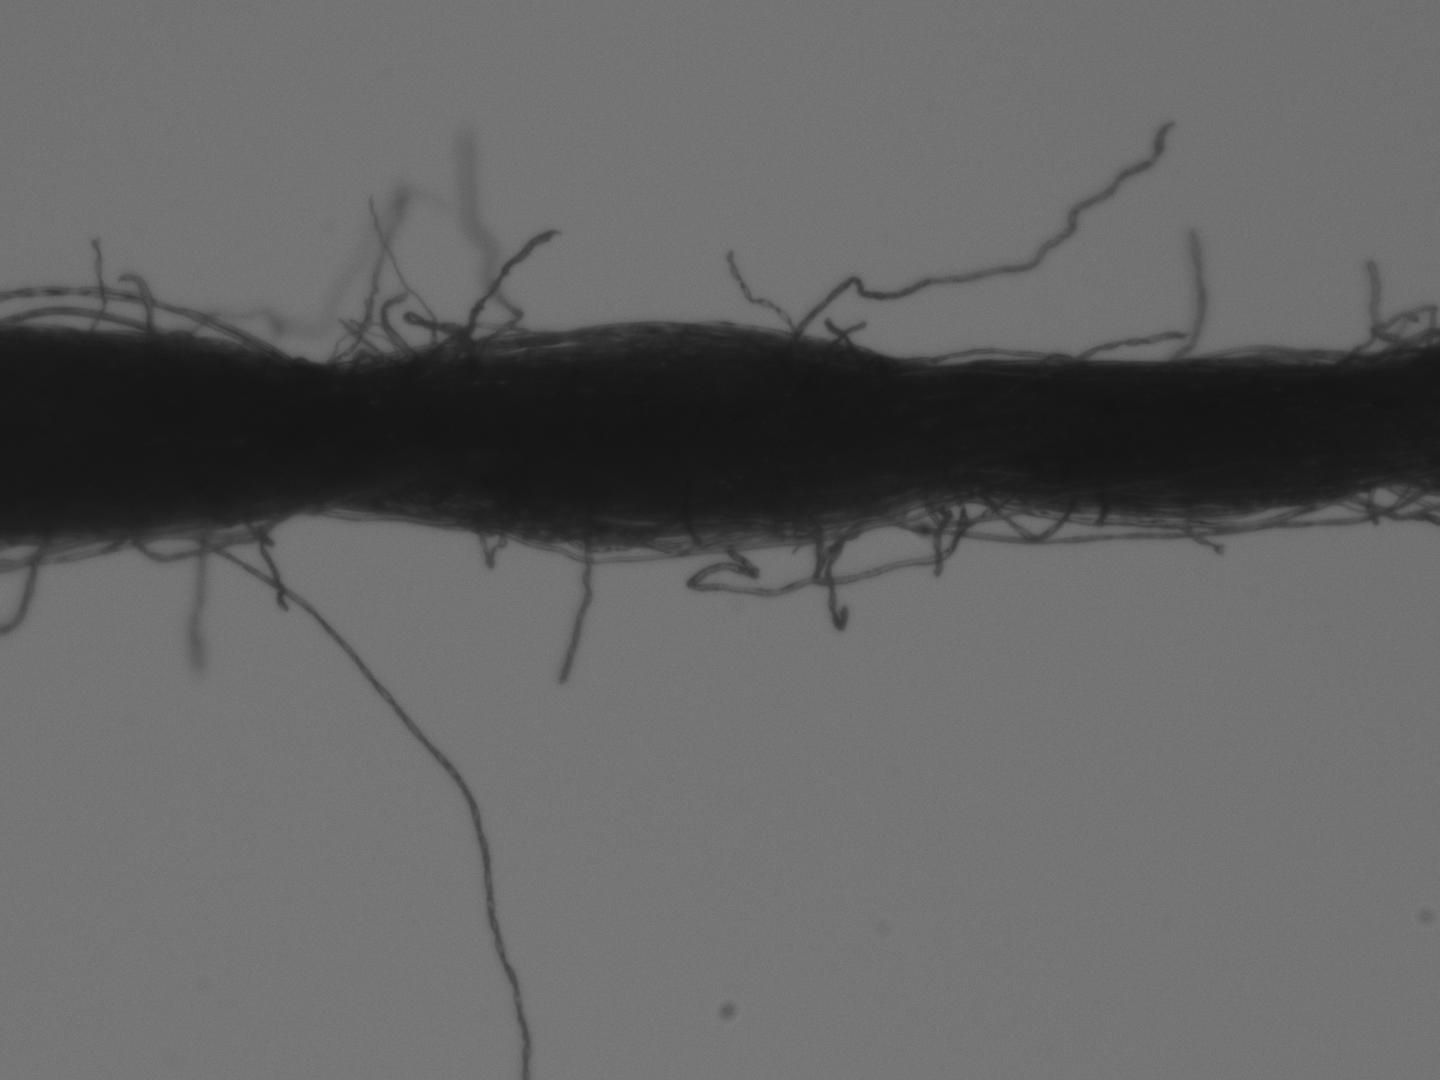loop_fiber: (872, 478, 1424, 541), (2, 286, 266, 353), (810, 487, 966, 585), (509, 517, 773, 563), (1016, 493, 1319, 531), (129, 507, 283, 560), (0, 303, 167, 335), (975, 491, 1067, 541), (922, 482, 1014, 525), (1211, 339, 1356, 366), (328, 323, 406, 370), (908, 346, 1073, 365), (471, 522, 503, 560), (348, 347, 387, 369)
protruding_fiber: (167, 535, 534, 1074), (789, 115, 1174, 331), (452, 227, 556, 357), (558, 524, 593, 687), (458, 330, 622, 361), (1176, 229, 1204, 361)
